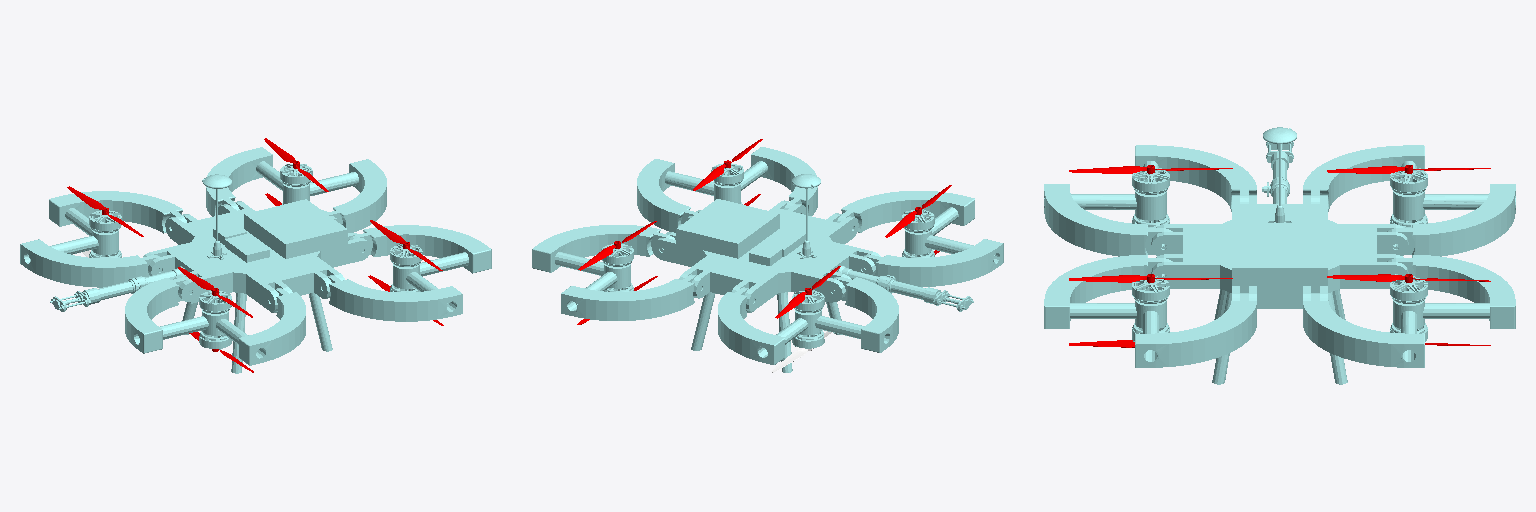
The robot description file, URDF, robot "omni":
<?xml version="1.0" encoding="utf-8"?>
<!-- This URDF was automatically created by SolidWorks to URDF Exporter! Originally created by Stephen Brawner (brawner@gmail.com) 
     Commit Version: 1.6.0-4-g7f85cfe  Build Version: 1.6.7995.38578
     For more information, please see http://wiki.ros.org/sw_urdf_exporter -->
<robot
  name="omni">
  <link
    name="base_link">
    <inertial>
      <origin
        xyz="-2.2574E-07 -8.3744E-08 0.17322"
        rpy="0 0 0" />
      <mass
        value="11.734" />
      <inertia
        ixx="0.034529"
        ixy="4.2538E-06"
        ixz="-2.6462E-08"
        iyy="0.036184"
        iyz="9.5396E-08"
        izz="0.062354" />
    </inertial>
    <visual>
      <origin
        xyz="0 0 0"
        rpy="0 0 0" />
      <geometry>
        <mesh
          filename="package://omni/meshes/base_link.STL" />
      </geometry>
      <material
        name="">
        <color
          rgba="0.75294 1 1 1" />
      </material>
    </visual>
    <collision>
      <origin
        xyz="0 0 0"
        rpy="0 0 0" />
      <geometry>
        <mesh
          filename="package://omni/meshes/base_link.STL" />
      </geometry>
    </collision>
  </link>
  <link
    name="rotor_1_link">
    <inertial>
      <origin
        xyz="-8.6392E-08 4.5343E-11 0.0049014"
        rpy="0 0 0" />
      <mass
        value="0.0042783" />
      <inertia
        ixx="1.4057E-05"
        ixy="3.9081E-07"
        ixz="1.5245E-13"
        iyy="7.6273E-08"
        iyz="9.1093E-12"
        izz="1.4115E-05" />
    </inertial>
    <visual>
      <origin
        xyz="0 0 0"
        rpy="0 0 0" />
      <geometry>
        <mesh
          filename="package://omni/meshes/rotor_1_link.STL" />
      </geometry>
      <material
        name="">
        <color
          rgba="1 0 0 1" />
      </material>
    </visual>
    <collision>
      <origin
        xyz="0 0 0"
        rpy="0 0 0" />
      <geometry>
        <mesh
          filename="package://omni/meshes/rotor_1_link.STL" />
      </geometry>
    </collision>
  </link>
  <joint
    name="rotor_1_joint"
    type="revolute">
    <origin
      xyz="-0.19992 0.20003 0.2212"
      rpy="0 0 0" />
    <parent
      link="base_link" />
    <child
      link="rotor_1_link" />
    <axis
      xyz="0 0 1" />
    <limit
      lower="0"
      upper="0"
      effort="0"
      velocity="0" />
  </joint>
  <link
    name="rotor_2_link">
    <inertial>
      <origin
        xyz="-8.6245E-08 3.492E-10 0.0049014"
        rpy="0 0 0" />
      <mass
        value="0.0042783" />
      <inertia
        ixx="1.406E-05"
        ixy="3.4162E-07"
        ixz="1.8614E-13"
        iyy="7.3697E-08"
        iyz="9.0978E-12"
        izz="1.4115E-05" />
    </inertial>
    <visual>
      <origin
        xyz="0 0 0"
        rpy="0 0 0" />
      <geometry>
        <mesh
          filename="package://omni/meshes/rotor_2_link.STL" />
      </geometry>
      <material
        name="">
        <color
          rgba="1 0 0 1" />
      </material>
    </visual>
    <collision>
      <origin
        xyz="0 0 0"
        rpy="0 0 0" />
      <geometry>
        <mesh
          filename="package://omni/meshes/rotor_2_link.STL" />
      </geometry>
    </collision>
  </link>
  <joint
    name="rotor_2_joint"
    type="revolute">
    <origin
      xyz="-0.19992 -0.19997 0.2212"
      rpy="0 0 0" />
    <parent
      link="base_link" />
    <child
      link="rotor_2_link" />
    <axis
      xyz="0 0 1" />
    <limit
      lower="0"
      upper="0"
      effort="0"
      velocity="0" />
  </joint>
  <link
    name="rotor_3_link">
    <inertial>
      <origin
        xyz="-8.6554E-08 6.524E-09 0.0049014"
        rpy="0 0 0" />
      <mass
        value="0.0042783" />
      <inertia
        ixx="1.3987E-05"
        ixy="-1.0629E-06"
        ixz="1.0997E-12"
        iyy="1.465E-07"
        iyz="9.0204E-12"
        izz="1.4115E-05" />
    </inertial>
    <visual>
      <origin
        xyz="0 0 0"
        rpy="0 0 0" />
      <geometry>
        <mesh
          filename="package://omni/meshes/rotor_3_link.STL" />
      </geometry>
      <material
        name="">
        <color
          rgba="1 0 0 1" />
      </material>
    </visual>
    <collision>
      <origin
        xyz="0 0 0"
        rpy="0 0 0" />
      <geometry>
        <mesh
          filename="package://omni/meshes/rotor_3_link.STL" />
      </geometry>
    </collision>
  </link>
  <joint
    name="rotor_3_joint"
    type="revolute">
    <origin
      xyz="0.20008 0.20003 0.2212"
      rpy="0 0 0" />
    <parent
      link="base_link" />
    <child
      link="rotor_3_link" />
    <axis
      xyz="0 0 1" />
    <limit
      lower="0"
      upper="0"
      effort="0"
      velocity="0" />
  </joint>
  <link
    name="rotor_4_link">
    <inertial>
      <origin
        xyz="-8.6152E-08 2.09E-09 0.0049014"
        rpy="0 0 0" />
      <mass
        value="0.0042783" />
      <inertia
        ixx="1.4068E-05"
        ixy="-1.3315E-08"
        ixz="4.1736E-13"
        iyy="6.537E-08"
        iyz="9.0877E-12"
        izz="1.4115E-05" />
    </inertial>
    <visual>
      <origin
        xyz="0 0 0"
        rpy="0 0 0" />
      <geometry>
        <mesh
          filename="package://omni/meshes/rotor_4_link.STL" />
      </geometry>
      <material
        name="">
        <color
          rgba="1 0 0 1" />
      </material>
    </visual>
    <collision>
      <origin
        xyz="0 0 0"
        rpy="0 0 0" />
      <geometry>
        <mesh
          filename="package://omni/meshes/rotor_4_link.STL" />
      </geometry>
    </collision>
  </link>
  <joint
    name="rotor_4_joint"
    type="revolute">
    <origin
      xyz="0.20008 -0.19997 0.2212"
      rpy="0 0 0" />
    <parent
      link="base_link" />
    <child
      link="rotor_4_link" />
    <axis
      xyz="0 0 1" />
    <limit
      lower="0"
      upper="0"
      effort="0"
      velocity="0" />
  </joint>
  <link
    name="rotor_5_link">
    <inertial>
      <origin
        xyz="-8.6489E-08 -5.283E-09 0.0050987"
        rpy="0 0 0" />
      <mass
        value="0.0042783" />
      <inertia
        ixx="1.4015E-05"
        ixy="8.6451E-07"
        ixz="-9.7079E-13"
        iyy="1.1894E-07"
        iyz="9.0381E-12"
        izz="1.4115E-05" />
    </inertial>
    <visual>
      <origin
        xyz="0 0 0"
        rpy="0 0 0" />
      <geometry>
        <mesh
          filename="package://omni/meshes/rotor_5_link.STL" />
      </geometry>
      <material
        name="">
        <color
          rgba="1 0 0 1" />
      </material>
    </visual>
    <collision>
      <origin
        xyz="0 0 0"
        rpy="0 0 0" />
      <geometry>
        <mesh
          filename="package://omni/meshes/rotor_5_link.STL" />
      </geometry>
    </collision>
  </link>
  <joint
    name="rotor_5_joint"
    type="revolute">
    <origin
      xyz="-0.199922514637326 -0.199971345336559 0.1088"
      rpy="0 0 0" />
    <parent
      link="base_link" />
    <child
      link="rotor_5_link" />
    <axis
      xyz="0 0 -1" />
    <limit
      lower="0"
      upper="0"
      effort="0"
      velocity="0" />
  </joint>
  <link
    name="rotor_6_link">
    <inertial>
      <origin
        xyz="8.611E-08 6.1207E-09 0.0050987"
        rpy="0 0 0" />
      <mass
        value="0.0042783" />
      <inertia
        ixx="1.4037E-05"
        ixy="6.6578E-07"
        ixz="8.413E-13"
        iyy="9.7084E-08"
        iyz="-9.0683E-12"
        izz="1.4115E-05" />
    </inertial>
    <visual>
      <origin
        xyz="0 0 0"
        rpy="0 0 0" />
      <geometry>
        <mesh
          filename="package://omni/meshes/rotor_6_link.STL" />
      </geometry>
      <material
        name="">
        <color
          rgba="1 0 0 1" />
      </material>
    </visual>
    <collision>
      <origin
        xyz="0 0 0"
        rpy="0 0 0" />
      <geometry>
        <mesh
          filename="package://omni/meshes/rotor_6_link.STL" />
      </geometry>
    </collision>
  </link>
  <joint
    name="rotor_6_joint"
    type="revolute">
    <origin
      xyz="0.20008 -0.19997 0.1088"
      rpy="0 0 0" />
    <parent
      link="base_link" />
    <child
      link="rotor_6_link" />
    <axis
      xyz="0 0 -1" />
    <limit
      lower="0"
      upper="0"
      effort="0"
      velocity="0" />
  </joint>
  <link
    name="rotor_7_link">
    <inertial>
      <origin
        xyz="-8.6314E-08 3.1745E-09 0.0050987"
        rpy="0 0 0" />
      <mass
        value="0.0042783" />
      <inertia
        ixx="1.4015E-05"
        ixy="-8.6332E-07"
        ixz="1.5309E-13"
        iyy="1.1879E-07"
        iyz="9.0866E-12"
        izz="1.4115E-05" />
    </inertial>
    <visual>
      <origin
        xyz="0 0 0"
        rpy="0 0 0" />
      <geometry>
        <mesh
          filename="package://omni/meshes/rotor_7_link.STL" />
      </geometry>
      <material
        name="">
        <color
          rgba="1 0 0 1" />
      </material>
    </visual>
    <collision>
      <origin
        xyz="0 0 0"
        rpy="0 0 0" />
      <geometry>
        <mesh
          filename="package://omni/meshes/rotor_7_link.STL" />
      </geometry>
    </collision>
  </link>
  <joint
    name="rotor_7_joint"
    type="revolute">
    <origin
      xyz="0.20008 0.20003 0.1088"
      rpy="0 0 0" />
    <parent
      link="base_link" />
    <child
      link="rotor_7_link" />
    <axis
      xyz="0 0 -1" />
    <limit
      lower="0"
      upper="0"
      effort="0"
      velocity="0" />
  </joint>
  <link
    name="rotor_8_link">
    <inertial>
      <origin
        xyz="0 0 0"
        rpy="0 0 0" />
      <mass
        value="0" />
      <inertia
        ixx="0"
        ixy="0"
        ixz="0"
        iyy="0"
        iyz="0"
        izz="0" />
    </inertial>
    <visual>
      <origin
        xyz="0 0 0"
        rpy="0 0 0" />
      <geometry>
        <mesh
          filename="package://omni/meshes/rotor_8_link.STL" />
      </geometry>
      <material
        name="">
        <color
          rgba="1 1 1 1" />
      </material>
    </visual>
    <collision>
      <origin
        xyz="0 0 0"
        rpy="0 0 0" />
      <geometry>
        <mesh
          filename="package://omni/meshes/rotor_8_link.STL" />
      </geometry>
    </collision>
  </link>
  <joint
    name="rotor_8_joint"
    type="revolute">
    <origin
      xyz="-0.19992 0.20003 0.1088"
      rpy="0 0 0" />
    <parent
      link="base_link" />
    <child
      link="rotor_8_link" />
    <axis
      xyz="0 0 -1" />
    <limit
      lower="0"
      upper="0"
      effort="0"
      velocity="0" />
  </joint>
</robot>

--- Facts derived from the render (not from the file) ---
Views: 3 orthographic renders of the robot side by side, from view 1: azimuth 30°, elevation 25°; view 2: azimuth 150°, elevation 25°; view 3: azimuth 270°, elevation 25°.
Model omni with 9 links and 8 joints (8 revolute), rooted at base_link, posed all joints at 0.
Visible links, largest first — view 1: base_link; view 2: base_link; view 3: base_link, rotor_2_link, rotor_1_link, rotor_3_link, rotor_4_link.
Link boxes in pixels (box(x1,y1,x2,y2)): base_link: box(20, 147, 491, 373); base_link: box(532, 147, 1003, 372); base_link: box(1044, 127, 1515, 384); rotor_2_link: box(1069, 165, 1232, 173); rotor_1_link: box(1327, 165, 1490, 173); rotor_3_link: box(1327, 274, 1490, 282); rotor_4_link: box(1069, 274, 1232, 282).
Size in the robot's own frame: 0.7878 by 0.73 by 0.3474 metres.
9 mesh visuals loaded from 9 distinct referenced files (9 binary STL).
